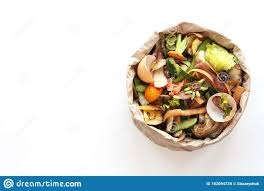kitchen_waste: (203, 91, 238, 125), (203, 41, 239, 74), (161, 103, 210, 123), (137, 103, 169, 127), (136, 54, 162, 83), (187, 66, 217, 89), (165, 116, 200, 135), (167, 33, 189, 60), (143, 81, 164, 102), (164, 55, 182, 77)
